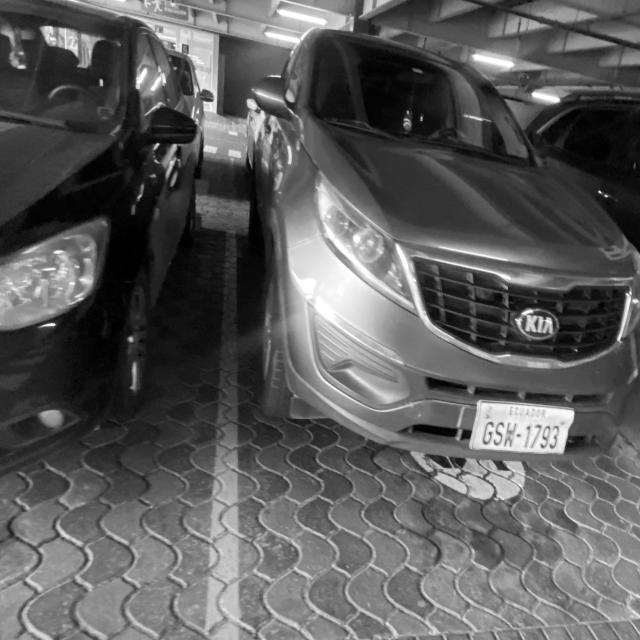Placa: (470, 401, 574, 453)
